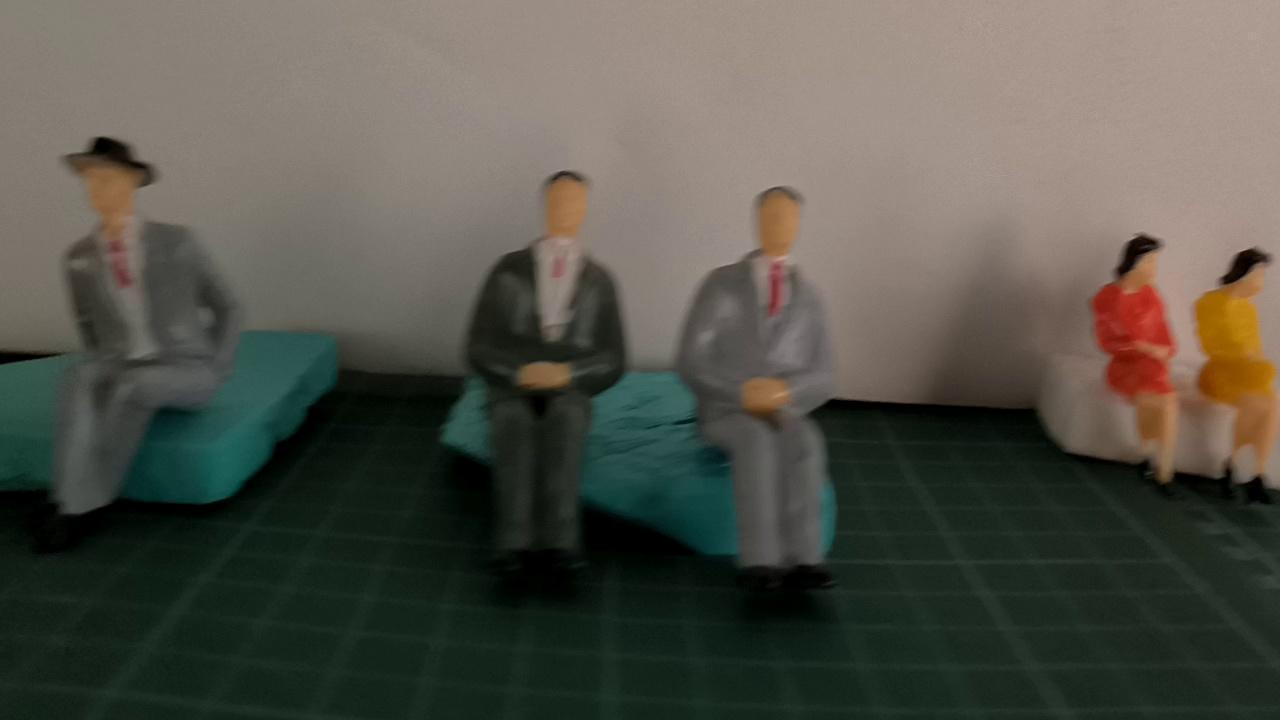human: (23, 133, 254, 523), (456, 164, 636, 580), (673, 177, 850, 599), (1092, 232, 1187, 485), (1195, 241, 1277, 501)
